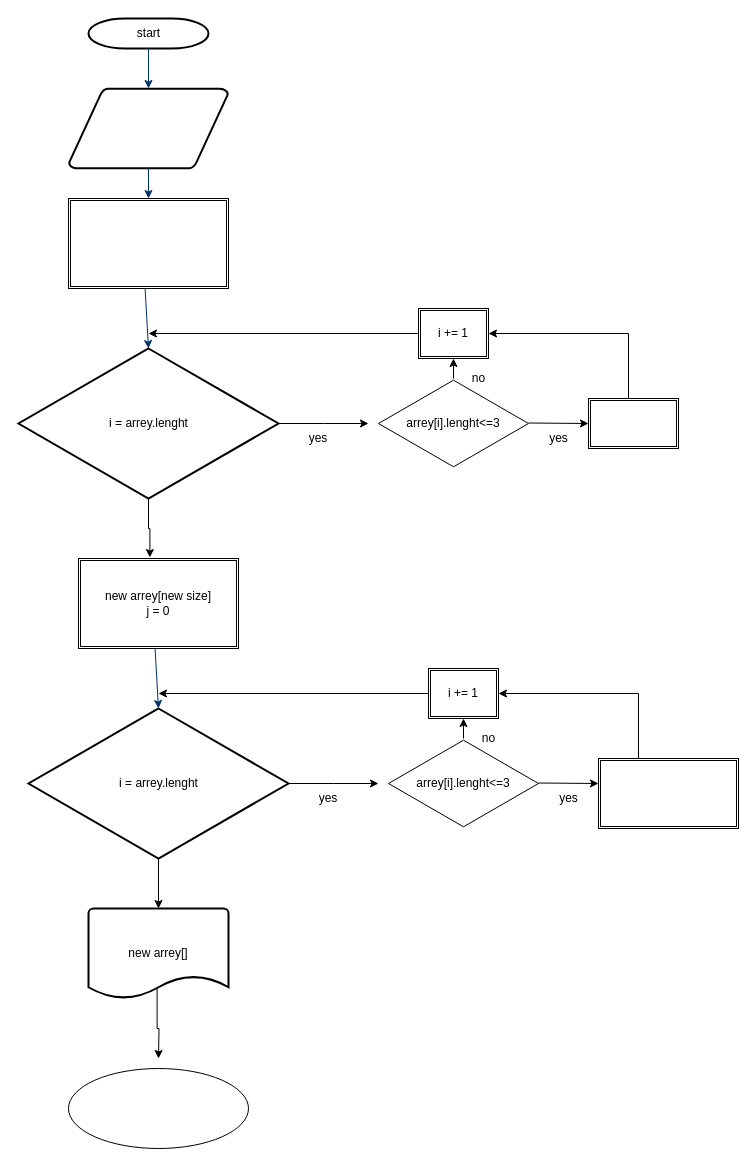
Some shapes in this 756 by 1166 pixel diagram are drawn without their labels. Here are the shapes that lost their labels. From the top down, the centre of each, then its label:
At [148,128]: "arrey[]".
At [148,243]: "i = 0 j = 0 new size = 0".
At [633,423]: "new size+=1".
At [668,793]: "new arrey[j] = arrey[i] j+=1".
At [158,1108]: "end".
